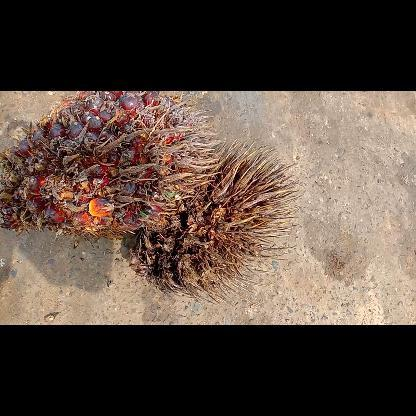Janjang kosong: (126, 140, 300, 300)
TBS masak: (0, 90, 220, 238)
